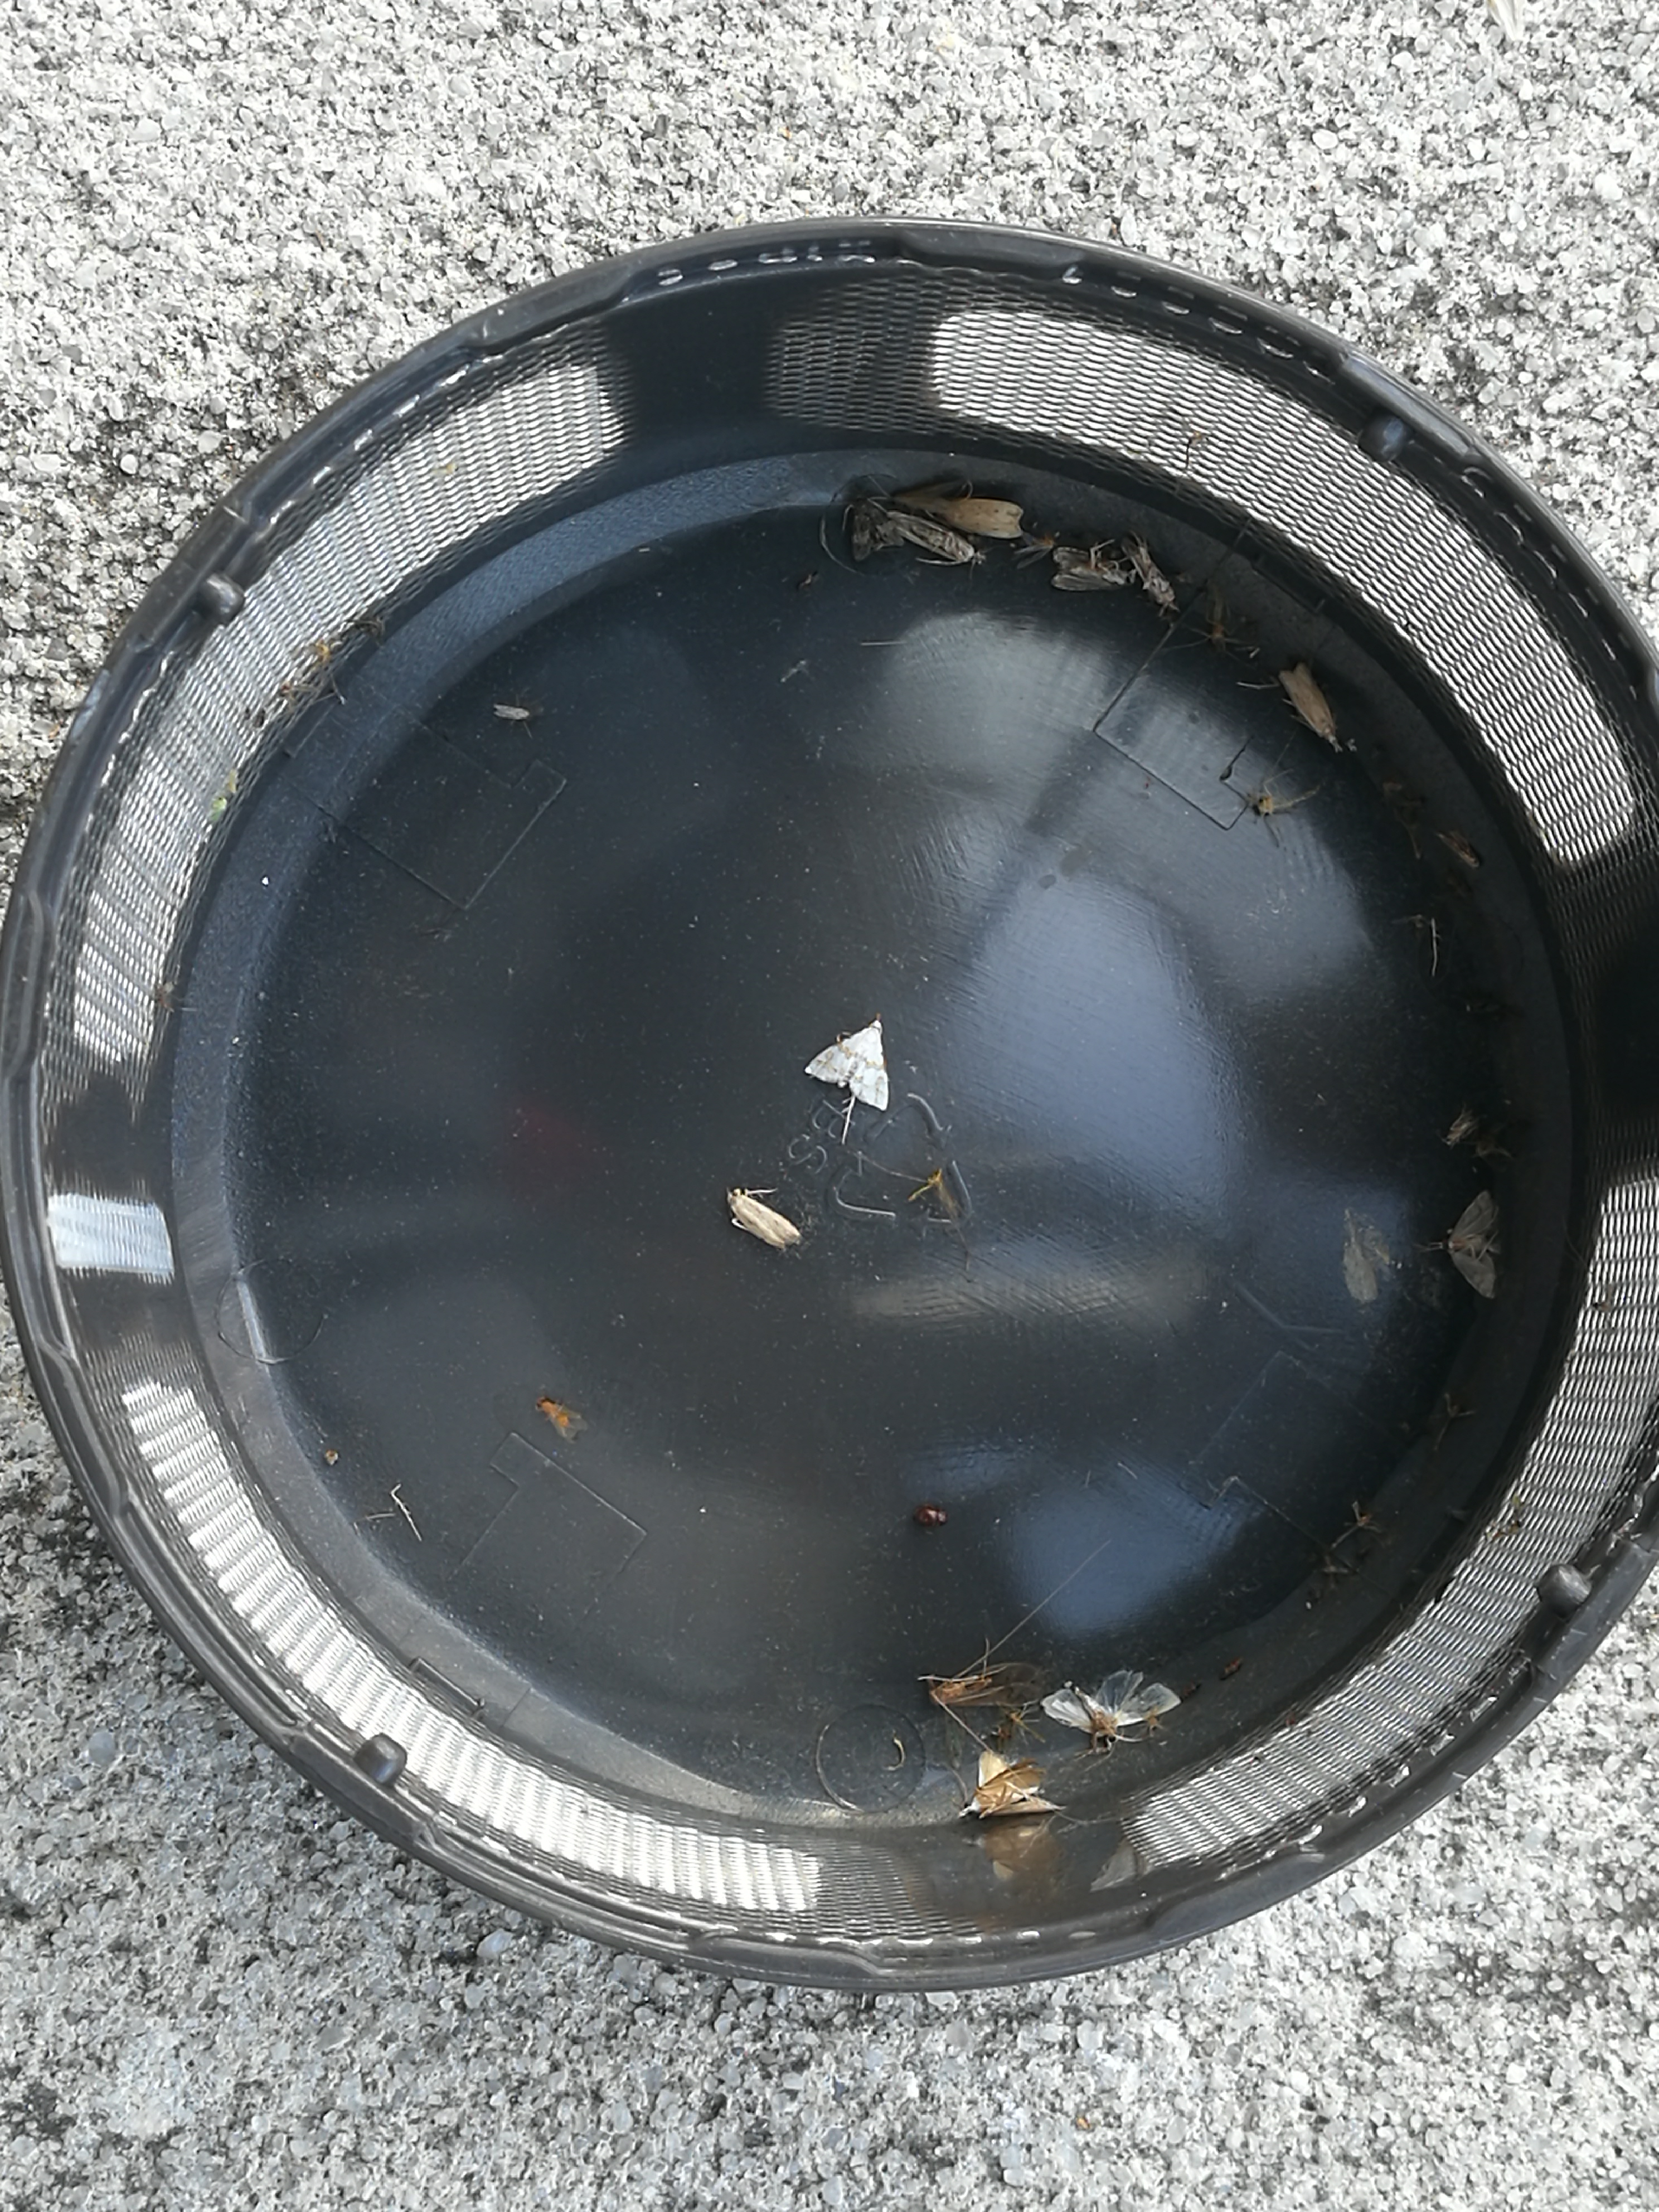mosquito: (1281, 662, 1338, 749), (727, 1190, 802, 1251), (932, 1665, 1039, 1707), (887, 512, 974, 563), (538, 1399, 587, 1440)
moth: (1040, 1674, 1180, 1733), (805, 1019, 889, 1111), (962, 1756, 1063, 1817), (1450, 1191, 1500, 1298), (934, 498, 1023, 540), (849, 498, 903, 561), (1049, 549, 1127, 589)
